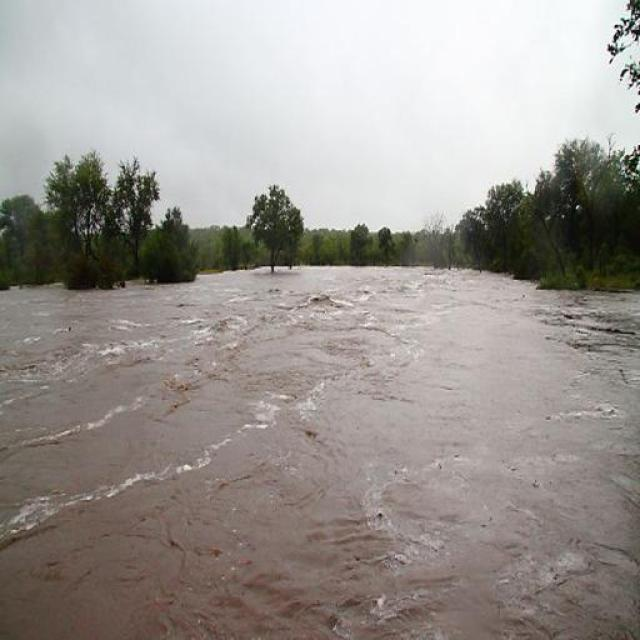puddle: (202, 256, 608, 513), (3, 293, 332, 507)
